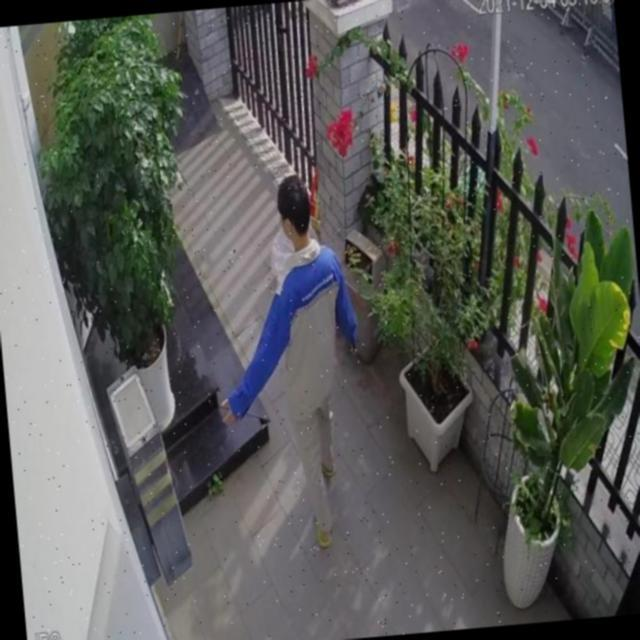person: (206, 168, 379, 551)
